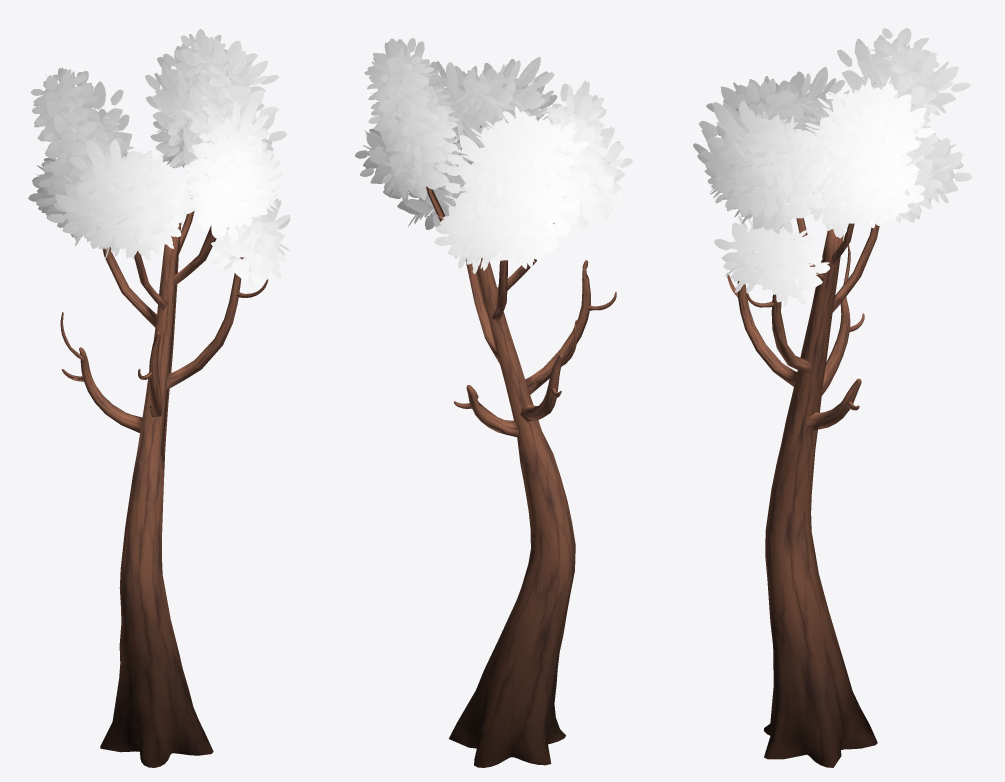
Rendered from CommonTree_4.glb.
3 renders of one model, left to right at view 1: azimuth 30°, elevation 25°; view 2: azimuth 150°, elevation 25°; view 3: azimuth 270°, elevation 25°, orthographic. The views are drawn at different scales.
Parts seen in each view (by area): view 1: CommonTree_4; view 2: CommonTree_4; view 3: CommonTree_4.
Boxes of the visible parts, box(x1,y1,x2,y2) form: CommonTree_4: box(28, 29, 290, 767); CommonTree_4: box(355, 38, 632, 767); CommonTree_4: box(693, 28, 972, 767).
Bounding box in the file's own units: 3.83 × 9.44 × 3.76.
2 materials, 2 textured.
